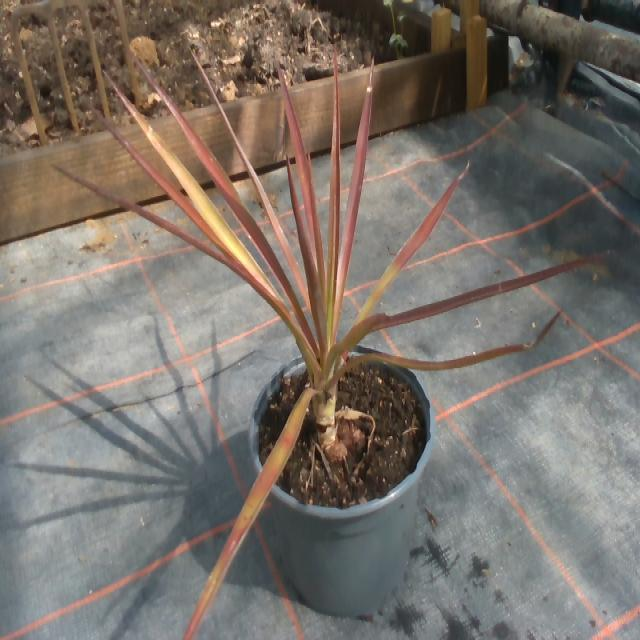Yucca-aloifolia: (136, 59, 301, 312), (114, 85, 281, 301), (57, 167, 287, 319), (183, 388, 318, 639), (339, 252, 608, 345), (196, 61, 301, 289), (98, 112, 226, 256), (356, 165, 467, 323), (331, 312, 559, 380), (278, 67, 325, 345), (334, 63, 372, 331), (288, 160, 325, 345), (325, 47, 340, 336)
